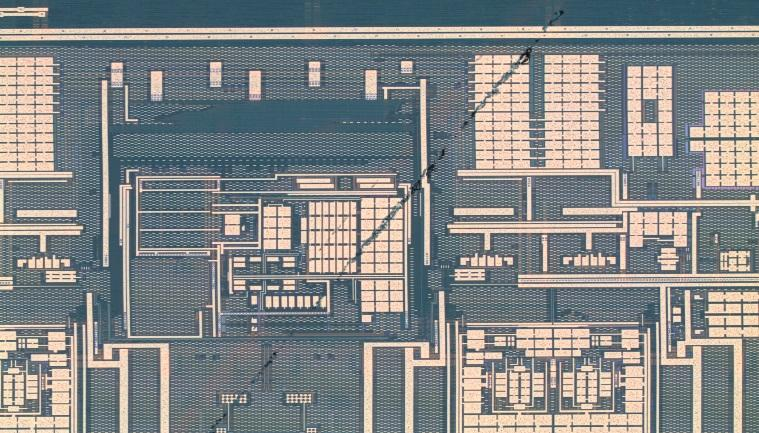SCRATCH: (205, 2, 569, 433)
